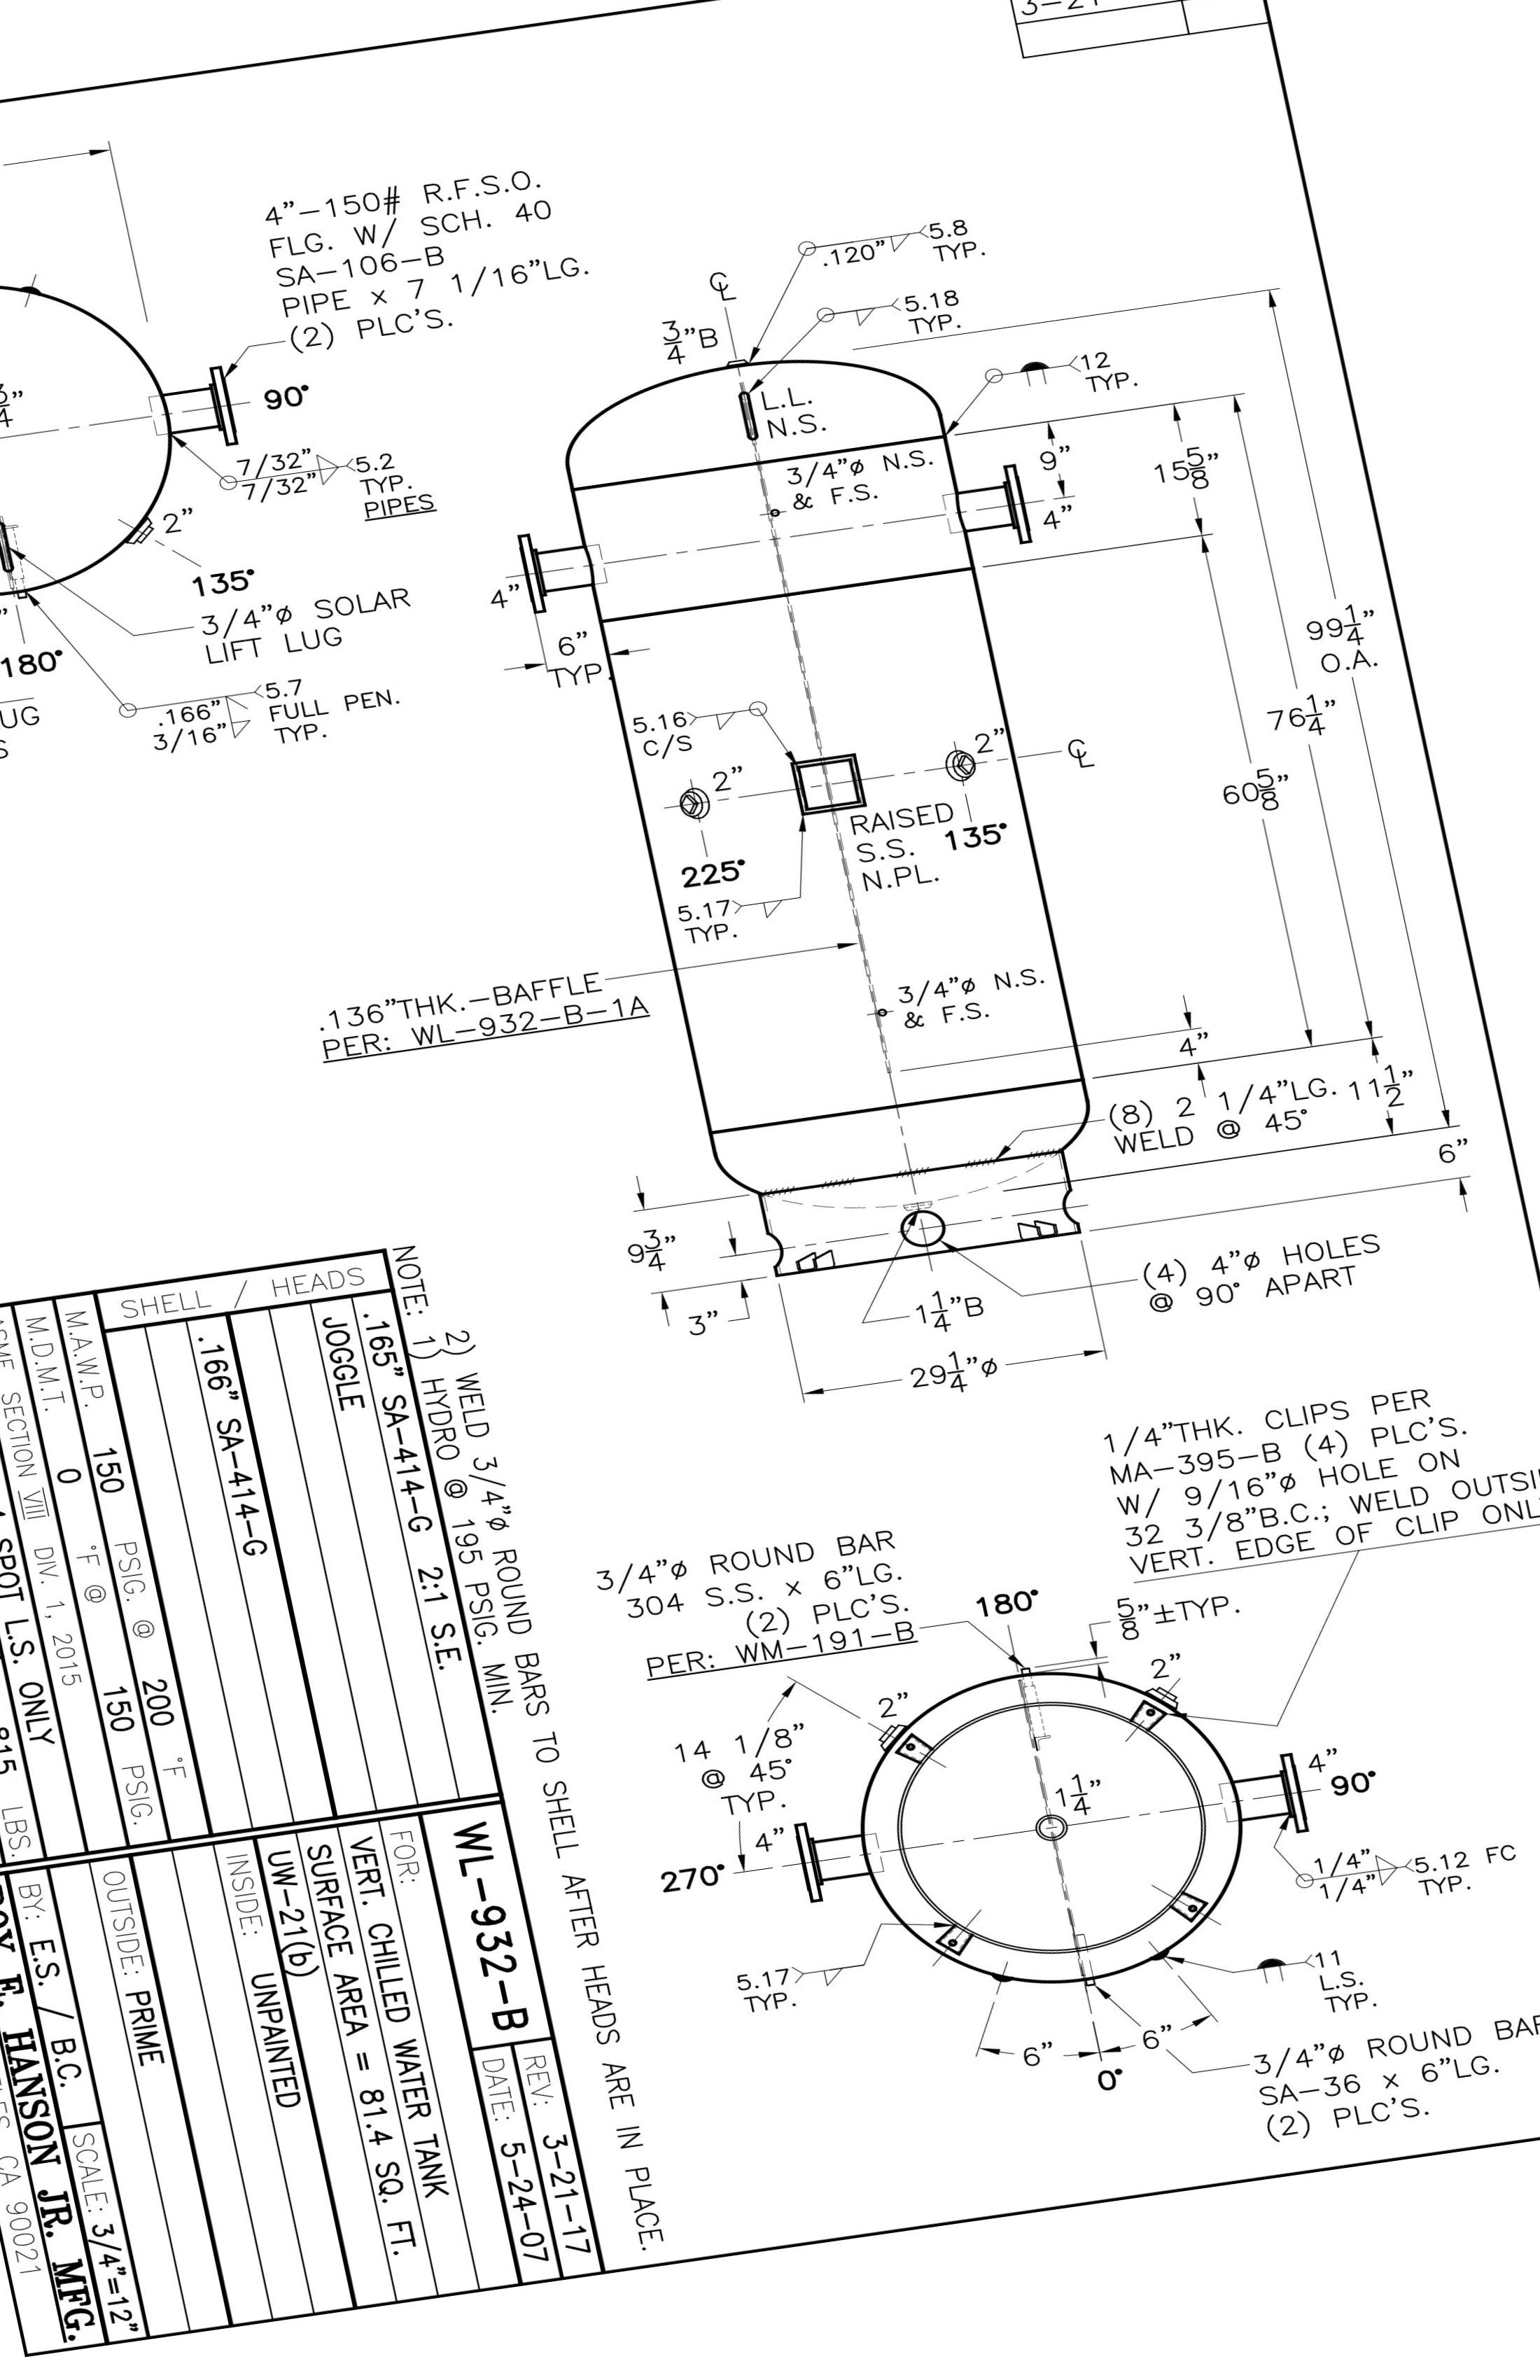Nozzle: (758, 1787, 898, 1919), (935, 441, 1079, 557), (482, 498, 617, 621), (1207, 1735, 1344, 1847), (149, 361, 272, 465)
